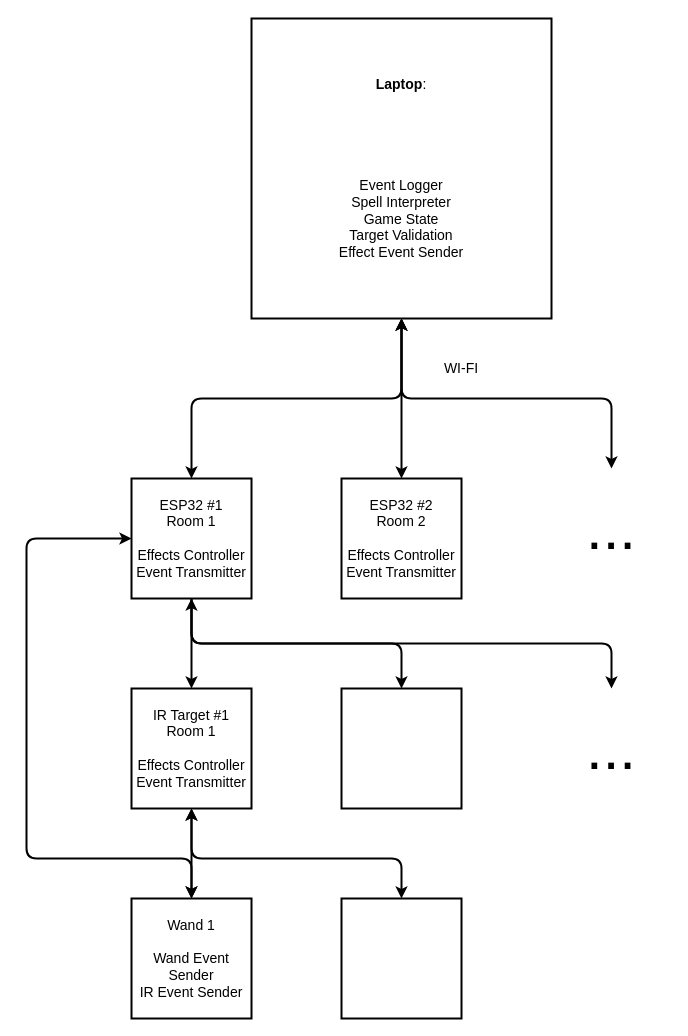
The diagram is 688 pixels wide and 1036 high, and some of its shapes have lost their labels. The shapes that lost their labels are listed below. From the top down, each one's box as (x1, y1, x2, y2) in pixels, then its label:
(340, 687, 462, 809): IR Target #2 Room 1 Effects Controller Event Transmitter
(340, 897, 462, 1019): Wand 2 Wand Event Sender IR Event Sender
